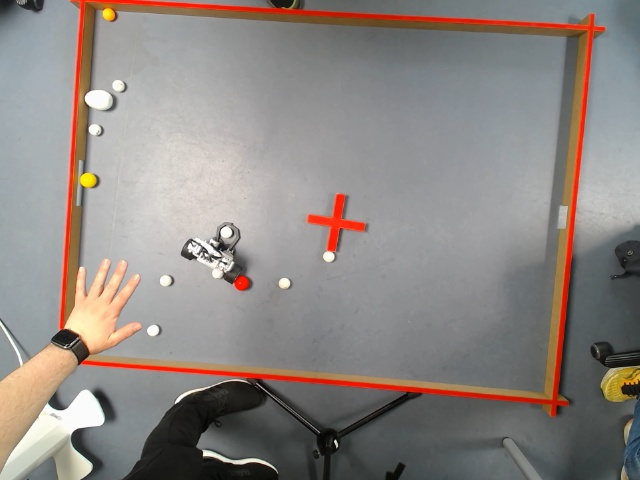big_goal: (71, 153, 90, 214)
cross: (307, 187, 368, 250)
egg: (83, 86, 116, 112)
orange: (98, 5, 118, 22)
robot: (176, 215, 247, 285)
small_goal: (553, 200, 571, 232)
wall: (47, 345, 571, 418), (533, 10, 612, 419), (50, 1, 100, 370), (100, 2, 615, 35)
white: (108, 76, 130, 93), (84, 122, 105, 138), (208, 265, 225, 281), (321, 248, 336, 265), (219, 224, 233, 239), (145, 324, 161, 337), (277, 276, 290, 291), (158, 274, 173, 286)
